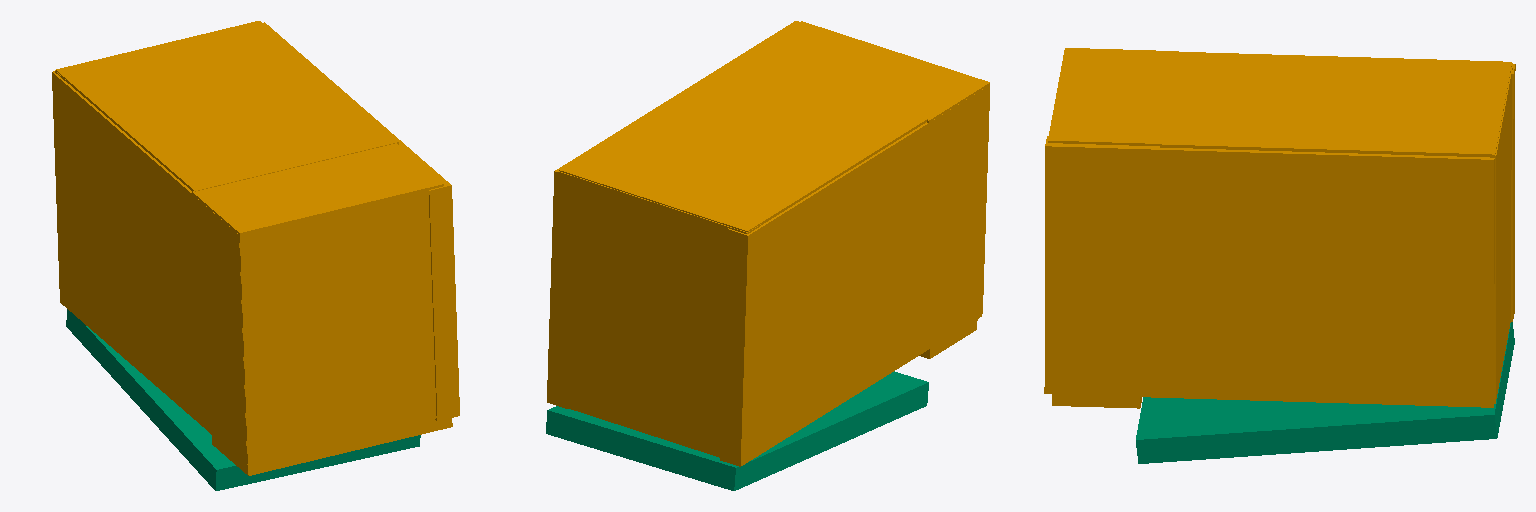
robot.urdf — microwave:
<?xml version="1.0"?>
<robot name="microwave">
  <link name ="rb0">
    <visual>
      <origin xyz='0.056548 0.010073 -0.049423' rpy='1.606167 0.000079 -1.642569'/>
      <geometry>
        <mesh filename="package://articulated_objects_db/data/objects/microwave/meshes/microwave.obj"  scale="1 1 1" />
      </geometry>
    </visual>
  </link>
  <joint name="j_0_1" type="revolute">
    <parent link="rb0"/>
    <child link="rb1"/>
    <origin xyz="0.0137774885753 0.197098171624 -0.353020931876" rpy="0 0 0 "/>
    <axis xyz="0.996797975687 -0.0796412081045 0.00714658230396"/>
    <limit effort="30" velocity="1.0" lower="-3.1416" upper="3.1416"/>
  </joint>
  <joint name="j_0_fixed" type="fixed">
    <parent link="rb1"/>
    <child link="rb1_marker"/>
      <origin xyz="-0.031093249428 -0.402803761252 -0.0743232959387" rpy="0.136055522568 -1.43842950714 -1.77868571483"/>
    <limit effort="30" velocity="1.0" lower="-3.1416" upper="3.1416"/>
  </joint>
  <link name ="rb1">
  </link>
  <link name ="rb1_marker">
    <visual>
      <origin xyz='-0.086801 0.093563 0.212745' rpy='-1.569729 0.020246 -3.140622'/>
      <geometry>
        <mesh filename="package://articulated_objects_db/data/objects/microwave/meshes/microwave_door.obj"  scale="1 1 1" />
      </geometry>
    </visual>
  </link>
</robot>

--- What the picture shows (computed from the rendered views, not written in the file) ---
Views: 3 orthographic renders of the robot side by side, from view 1: azimuth 30°, elevation 25°; view 2: azimuth 150°, elevation 25°; view 3: azimuth 270°, elevation 25°.
Robot: microwave — 3 links, 2 joints (1 revolute, 1 fixed); root link rb0; default pose: every joint at zero.
Links seen in each view (by area): view 1: rb0, rb1_marker; view 2: rb0, rb1_marker; view 3: rb0, rb1_marker.
Boxes of the visible links, left/top/right/bottom form: rb0: left=52, top=21, right=459, bottom=475; rb1_marker: left=66, top=309, right=420, bottom=490; rb0: left=547, top=21, right=989, bottom=466; rb1_marker: left=546, top=371, right=928, bottom=490; rb0: left=1044, top=48, right=1515, bottom=408; rb1_marker: left=1136, top=322, right=1514, bottom=463.
Bounding box of the posed robot: 0.326 × 0.5334 × 0.3973 m (x, y, z).
Meshes: 2 distinct files referenced, 2 mesh visuals loaded (2 OBJ).